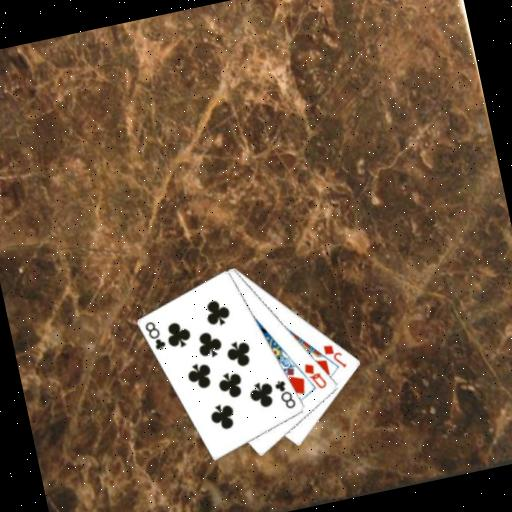8C: (140, 316, 168, 355), (270, 375, 298, 413)
JD: (319, 338, 349, 372)
QD: (300, 357, 330, 393)
